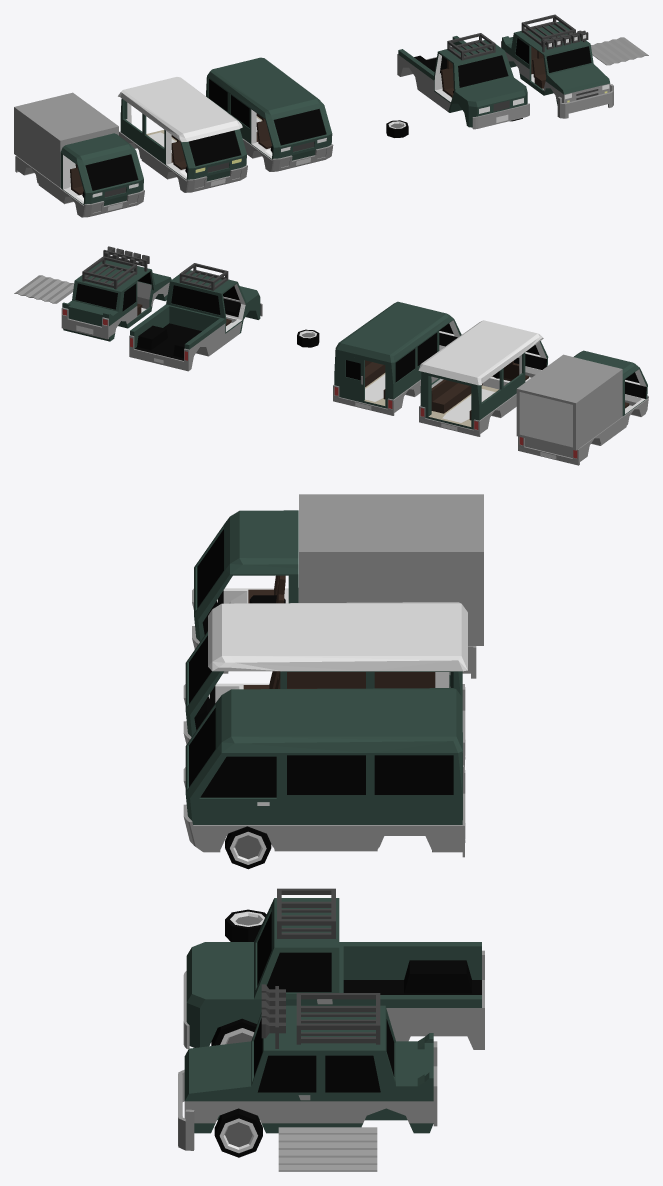
File: Vehicles.fbx
3 renders of one model, top to bottom at view 1: azimuth 30°, elevation 25°; view 2: azimuth 150°, elevation 25°; view 3: azimuth 270°, elevation 25°, orthographic. The views are drawn at different scales.
Parts seen in each view (by area): view 1: Delivery Truck, Van (White Top), Van, Truck, Car, Metal Sheet, Bumper Guard, Windows, Luggage Rack 2, Luggage Rack 1, Light Rack, Tire; view 2: Van (White Top), Delivery Truck, Truck, Van, Car, Rear Door Closed, Metal Sheet, Luggage Rack 1, Backdoor, Luggage Rack 2, Windows, Tailgate (+2 smaller); view 3: Van, Delivery Truck, Van (White Top), Truck, Car, Windows, Door, Metal Sheet, Car Door, Luggage Rack 1, Truck Door, Luggage Rack 2 (+5 smaller).
Boxes of the visible parts, box(x1,y1,x2,y2) form: Delivery Truck: box(14, 92, 144, 217); Van (White Top): box(118, 77, 247, 192); Van: box(206, 57, 333, 171); Truck: box(397, 36, 529, 129); Car: box(501, 21, 610, 105); Metal Sheet: box(591, 37, 648, 65); Bumper Guard: box(557, 84, 613, 118); Windows: box(208, 79, 249, 127); Luggage Rack 2: box(447, 33, 495, 60); Luggage Rack 1: box(521, 14, 575, 46); Light Rack: box(542, 30, 588, 52); Tire: box(386, 120, 408, 137); Van (White Top): box(418, 320, 548, 436); Delivery Truck: box(516, 350, 648, 465); Truck: box(129, 270, 262, 371); Van: box(333, 301, 461, 415); Car: box(61, 260, 171, 341); Rear Door Closed: box(519, 392, 572, 447); Metal Sheet: box(14, 275, 74, 303); Luggage Rack 1: box(82, 256, 137, 289); Backdoor: box(342, 355, 364, 400); Luggage Rack 2: box(179, 263, 228, 290); Windows: box(395, 333, 436, 382); Tailgate: box(69, 303, 108, 330); Van: box(183, 688, 465, 857); Delivery Truck: box(192, 494, 483, 678); Van (White Top): box(183, 602, 467, 766); Truck: box(183, 898, 484, 1049); Car: box(184, 1005, 437, 1133); Windows: box(287, 755, 453, 795); Door: box(194, 754, 280, 823); Metal Sheet: box(278, 1127, 377, 1171); Car Door: box(256, 1052, 321, 1124); Luggage Rack 1: box(296, 993, 380, 1044); Truck Door: box(258, 950, 335, 1006); Luggage Rack 2: box(277, 888, 335, 938).
Size of the model in its own units: 2741 by 341 by 624.
